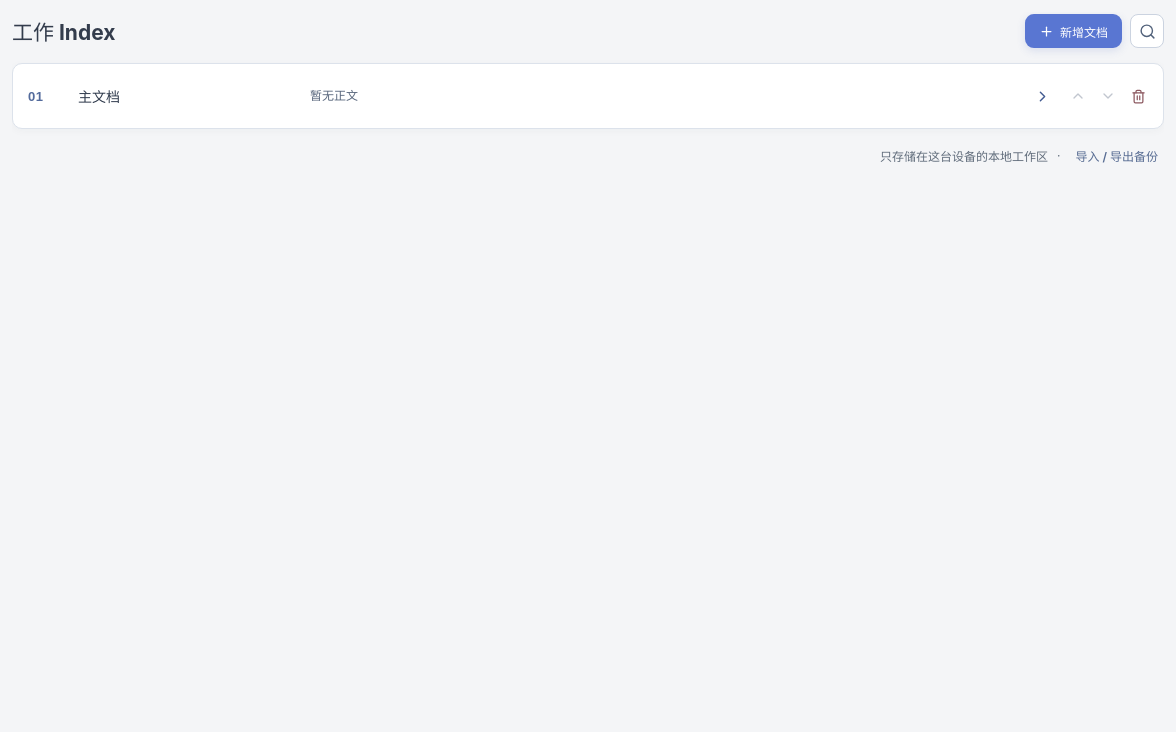
Test: Index document directory and focused editor › returns from an open document with Escape and saves the latest editor content
This screenshot has width=1176, height=732.
Click the button with aria-label "打开文档：主文档": click(99, 96) [26,72,1054,120]
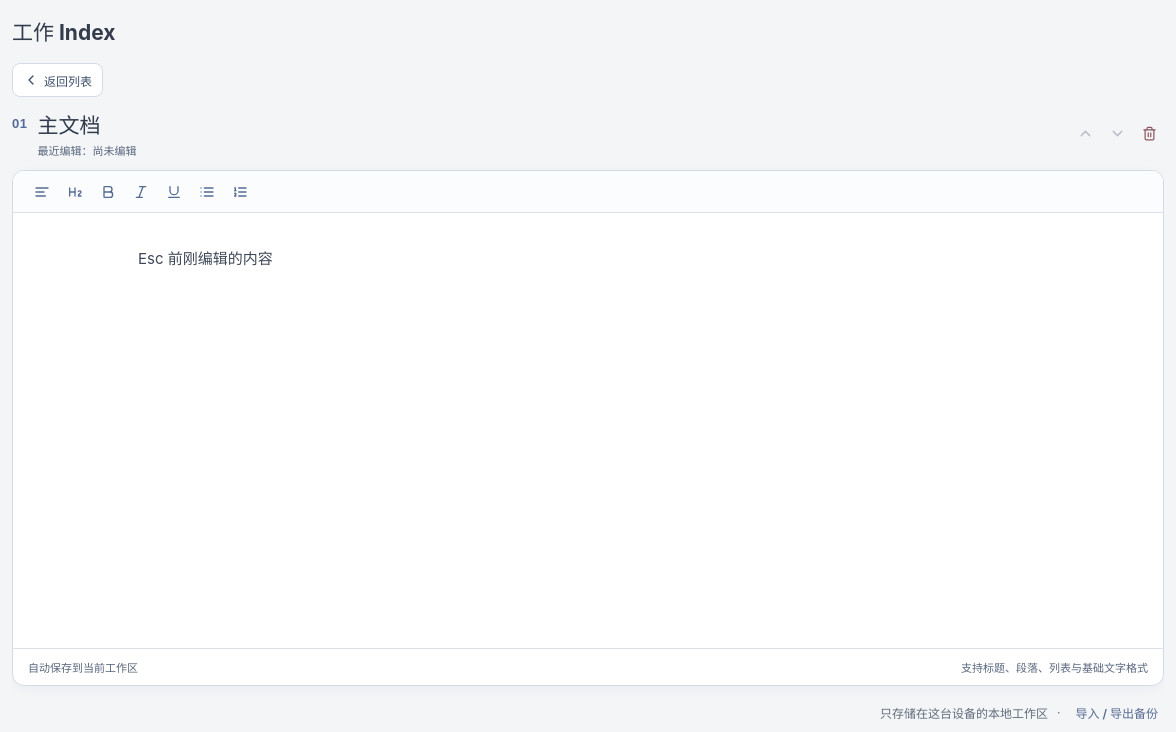
Clear the field named "主文档内容": (205, 258) [138,249,273,268]
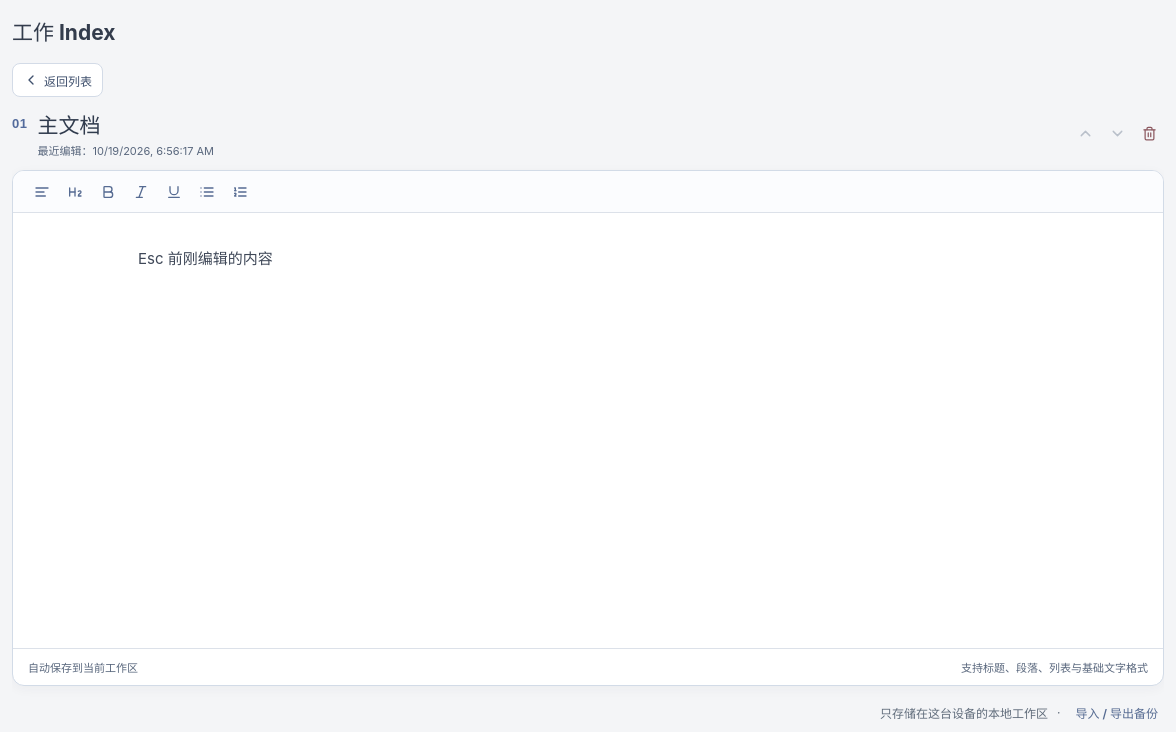
Press Escape in the field named "主文档内容", box [138,249,273,268]
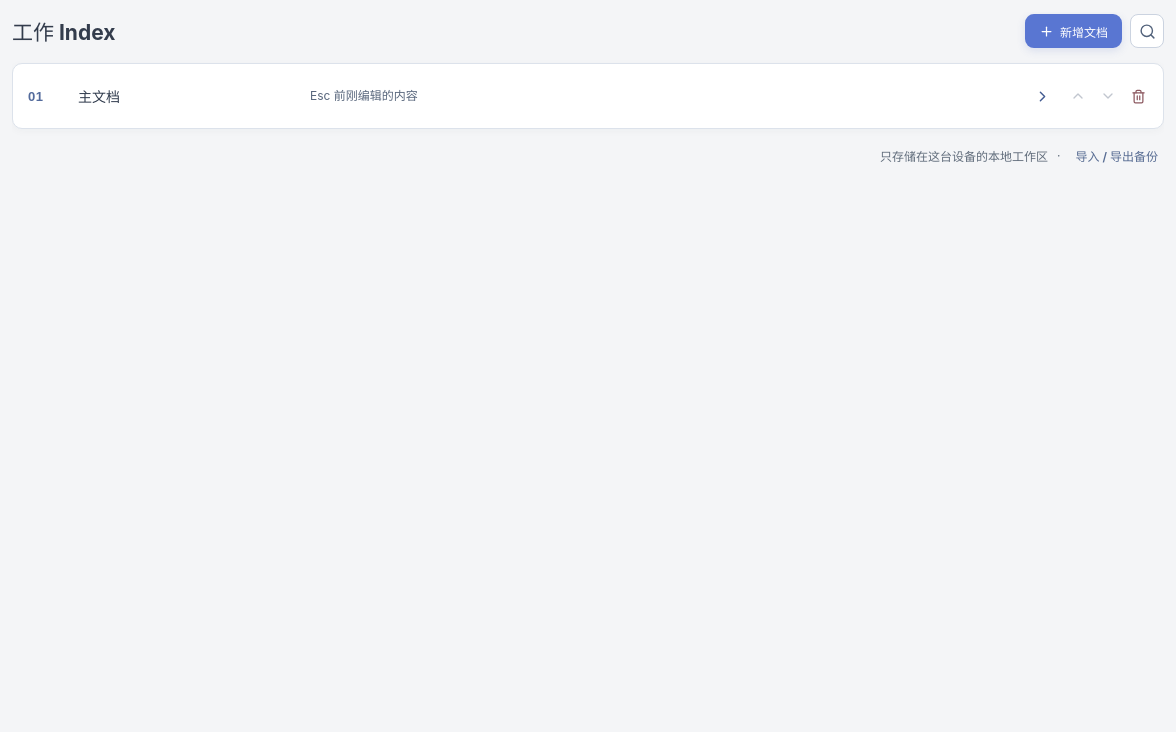
Expected: the text "Esc 前刚编辑的内容" is shown, [310,88,418,103]
Expected: the element named "Index 文档目录" is shown, [12,63,1164,129]
Expected: the field labelled "主文档内容" is gone
